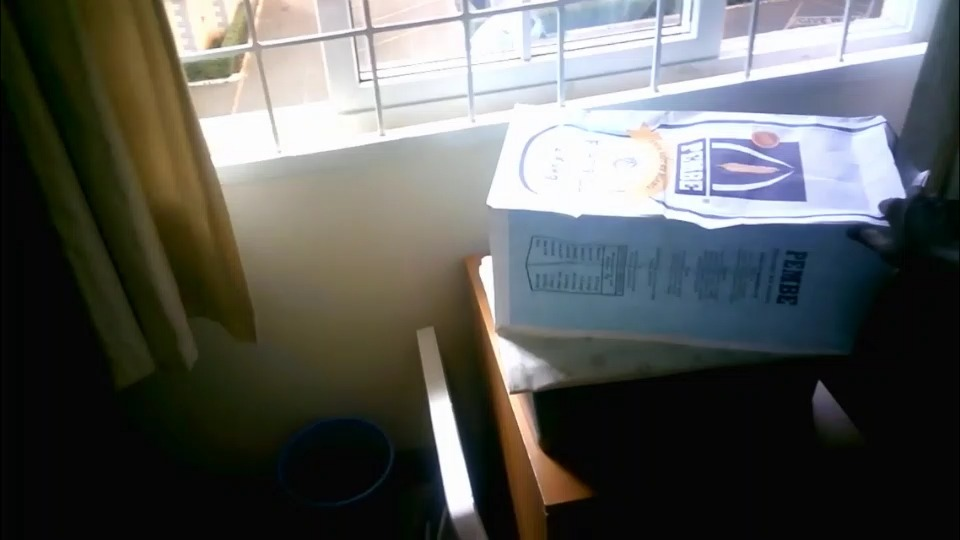wheat_flour_blue_label: (488, 105, 899, 356)
